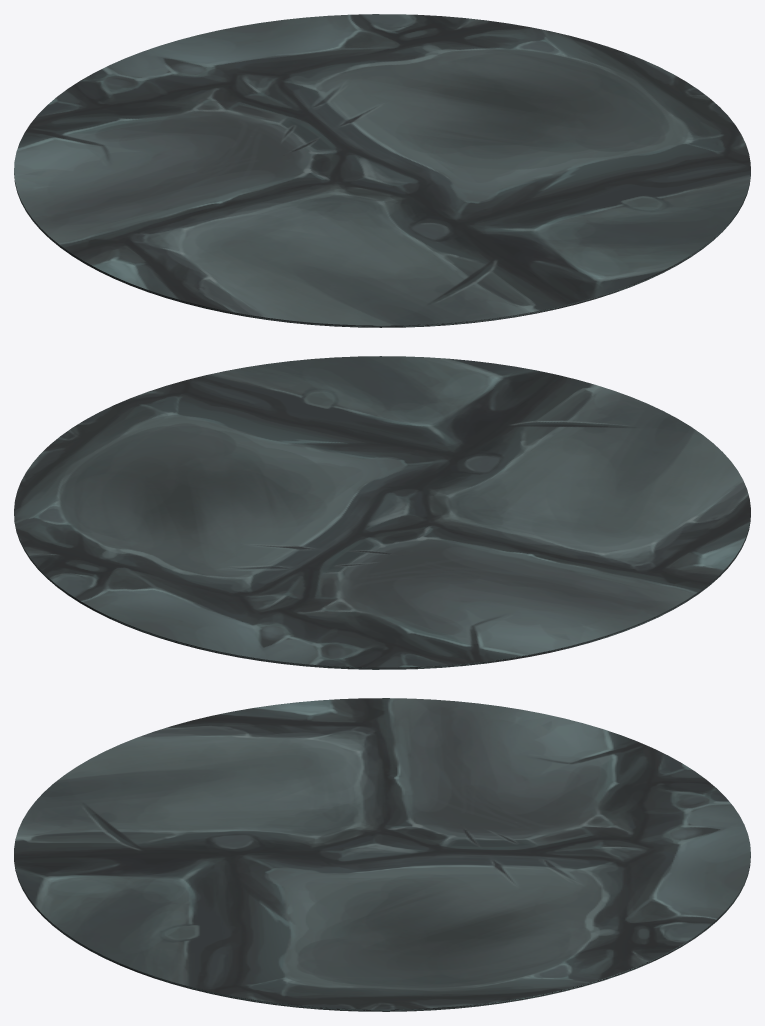
Rendered from Stage_4545.fbx.
3 views of the same model, one above another, from view 1: azimuth 30°, elevation 25°; view 2: azimuth 150°, elevation 25°; view 3: azimuth 270°, elevation 25° (orthographic).
Parts seen in each view (by area): view 1: Cylinder; view 2: Cylinder; view 3: Cylinder.
Part boxes in pixels (<box>): Cylinder: <box>14,14,750,327</box>; Cylinder: <box>14,356,750,669</box>; Cylinder: <box>14,698,750,1011</box>.
Size of the model in its own units: 6569 by 22 by 6568.
